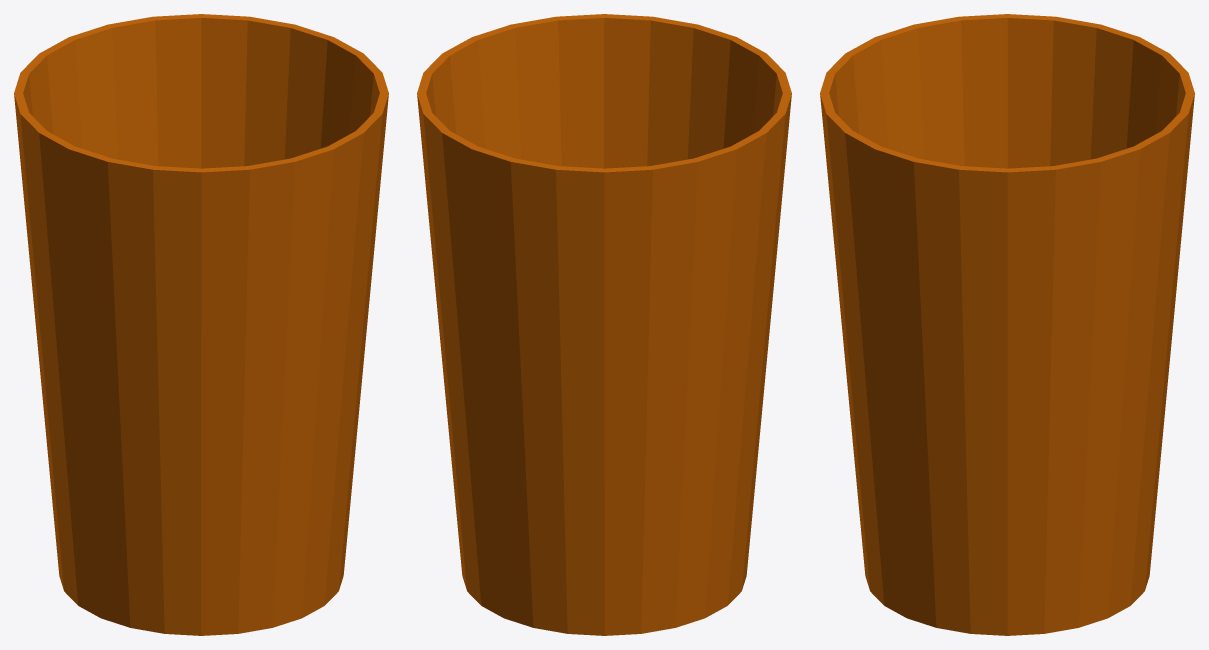
The picture shows the model from 3 angles, left to right: view 1: azimuth 30°, elevation 25°; view 2: azimuth 150°, elevation 25°; view 3: azimuth 270°, elevation 25°; orthographic projection.
Visible parts, largest first — view 1: mesh1.001_mesh1-geometry; view 2: mesh1.001_mesh1-geometry; view 3: mesh1.001_mesh1-geometry.
Boxes of the visible parts, <box> form: mesh1.001_mesh1-geometry: <box>14,14,388,635</box>; mesh1.001_mesh1-geometry: <box>417,14,791,635</box>; mesh1.001_mesh1-geometry: <box>820,14,1194,635</box>.
Bounding box in the file's own units: 0.4989 × 0.7086 × 0.4989.
